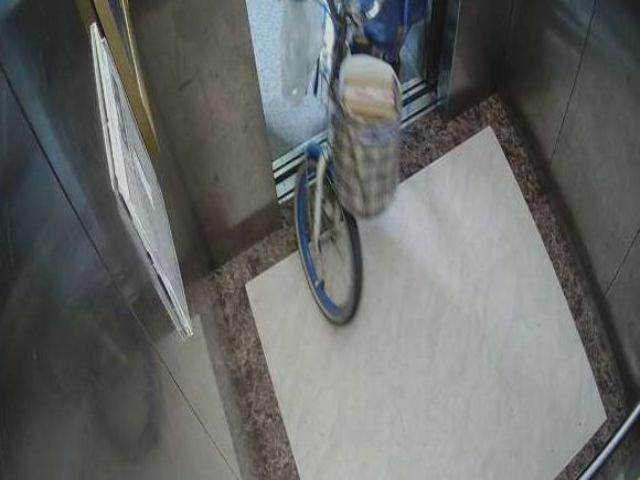bicycle: (274, 5, 430, 334)
